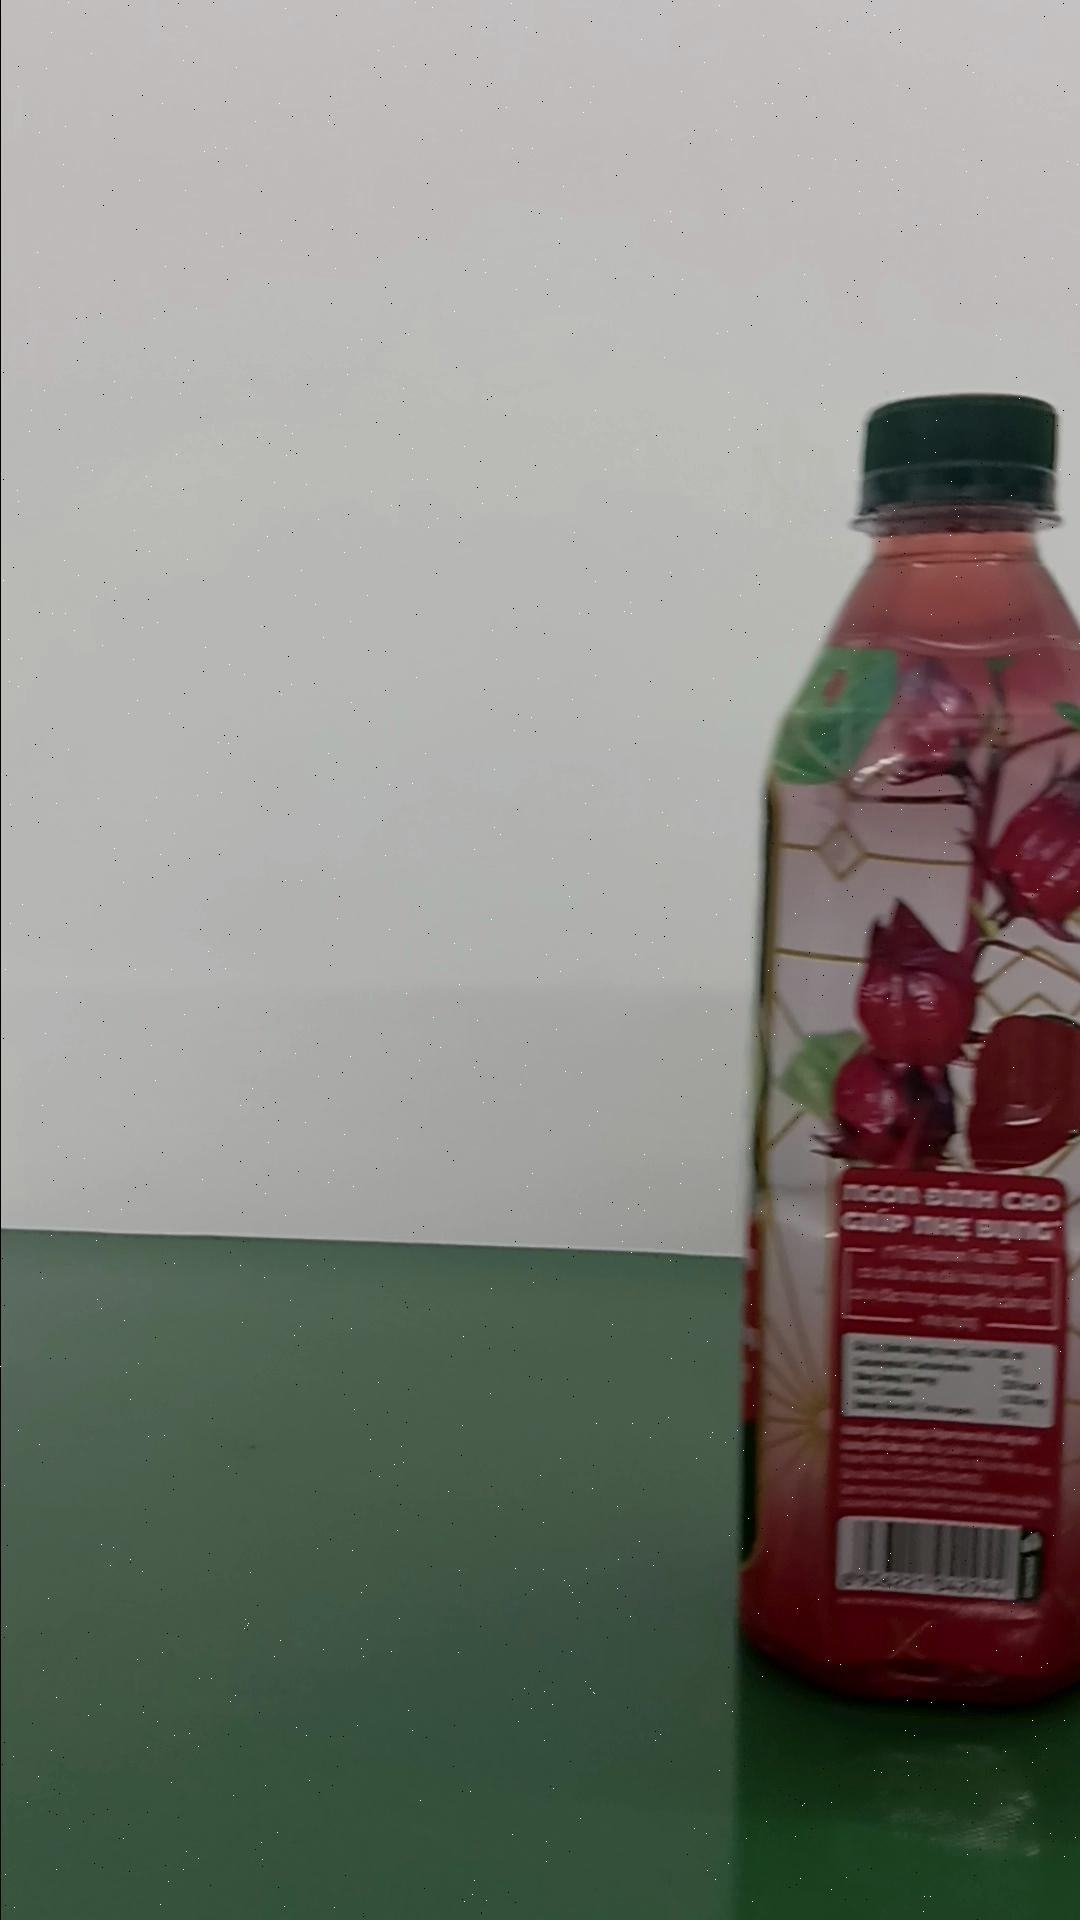loi rach va lap chai: (738, 386, 1080, 1717)
